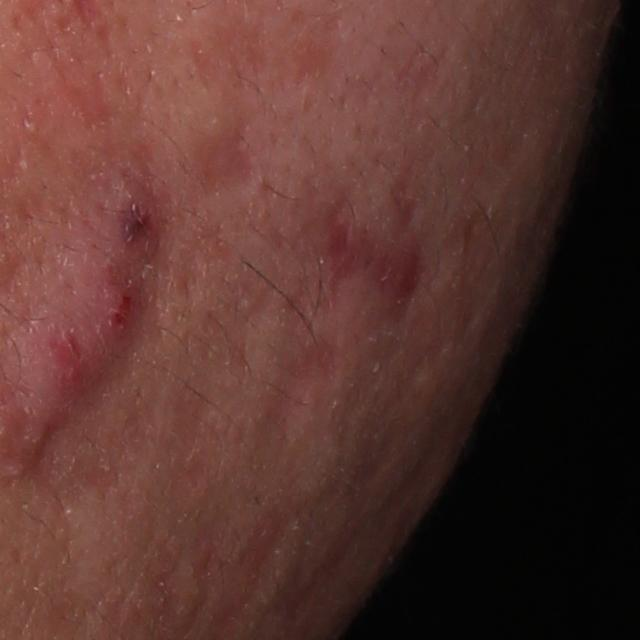atrophic_scar: (320, 199, 430, 319), (270, 317, 343, 440), (190, 114, 272, 207)
nodule: (5, 160, 158, 477)
